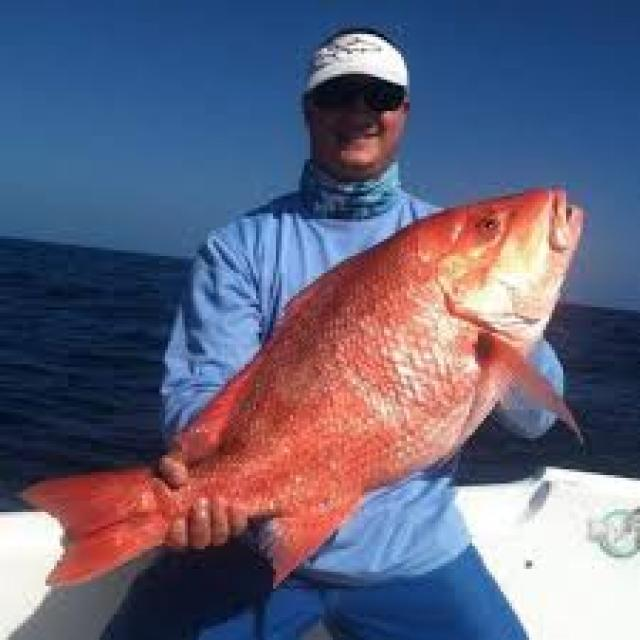northern-red-snapper: (20, 177, 595, 593)
